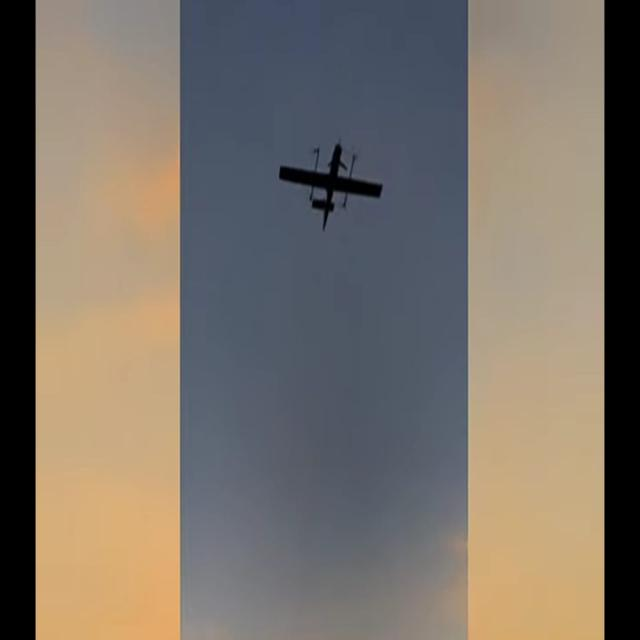iha: (304, 167, 346, 202)
